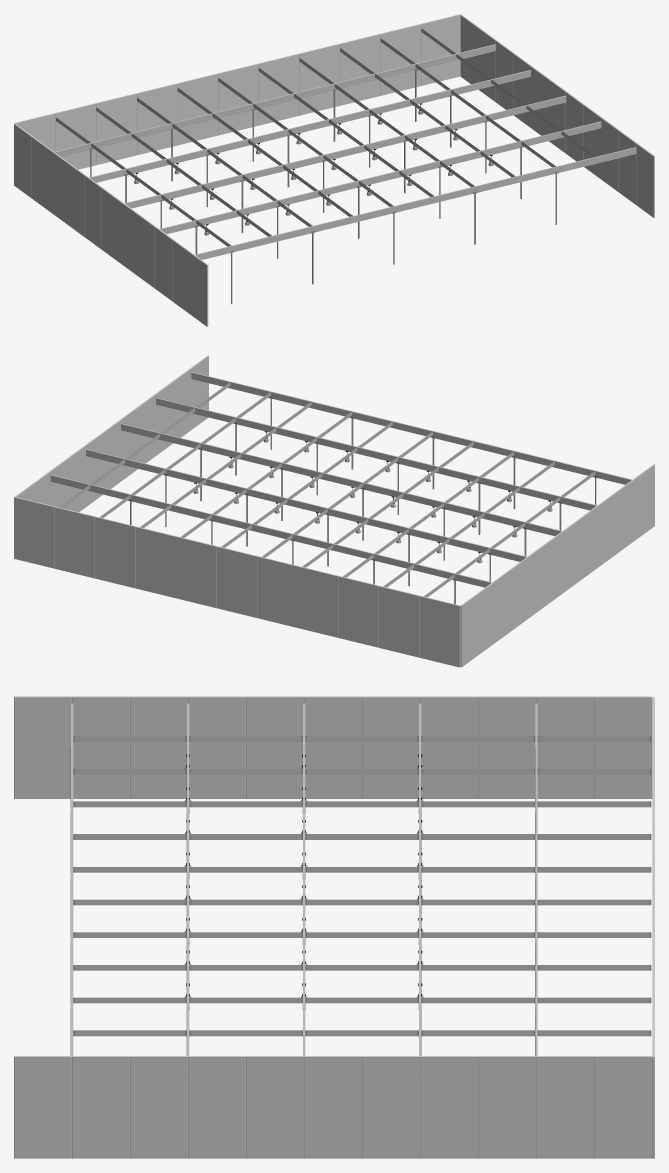
The model's file is BuildingShell.fbx.
The picture shows the model from 3 angles, top to bottom: view 1: azimuth 30°, elevation 25°; view 2: azimuth 150°, elevation 25°; view 3: azimuth 270°, elevation 25°; orthographic projection. The views are drawn at different scales.
Visible parts, largest first — view 1: Glulam3, Glulam1, Glulam2, Glulam02, Glulam01, WallPanel17, WallPanel19, WallPanel13, WallPanel15, WallPanel16, WallPanel14, WallPanel20 (+26 smaller); view 2: Glulam3, Glulam01, Glulam02, Glulam2, Glulam1, WallPanel14, WallPanel11, WallPanel16, WallPanel12, WallPanel15, WallPanel17, WallPanel18 (+25 smaller); view 3: WallPanel22, WallPanel23, WallPanel24, WallPanel25, WallPanel26, WallPanel27, WallPanel28, WallPanel29, WallPanel30, WallPanel31, WallPanel32, WallPanel10 (+65 smaller).
Boxes of the visible parts, x1,y1,x2,y2 form: Glulam3: [195, 147, 636, 259]; Glulam1: [124, 95, 566, 208]; Glulam2: [160, 121, 601, 234]; Glulam02: [89, 70, 530, 182]; Glulam01: [54, 44, 495, 156]; WallPanel17: [258, 53, 299, 125]; WallPanel19: [339, 34, 380, 105]; WallPanel13: [96, 93, 136, 165]; WallPanel15: [177, 73, 217, 145]; WallPanel16: [218, 63, 258, 135]; WallPanel14: [136, 83, 177, 155]; WallPanel20: [380, 24, 420, 95]; Glulam3: [191, 372, 631, 484]; Glulam01: [50, 475, 491, 587]; Glulam02: [86, 449, 526, 561]; Glulam2: [156, 398, 596, 510]; Glulam1: [121, 423, 561, 535]; WallPanel14: [297, 566, 338, 637]; WallPanel11: [419, 595, 460, 667]; WallPanel16: [216, 546, 257, 617]; WallPanel12: [379, 585, 419, 657]; WallPanel15: [257, 556, 297, 627]; WallPanel17: [176, 536, 216, 608]; WallPanel18: [135, 526, 176, 598]; WallPanel22: [594, 1056, 652, 1158]; WallPanel23: [536, 1056, 594, 1158]; WallPanel24: [420, 1056, 478, 1158]; WallPanel25: [478, 1056, 536, 1158]; WallPanel26: [362, 1056, 420, 1158]; WallPanel27: [304, 1056, 362, 1158]; WallPanel28: [246, 1056, 304, 1158]; WallPanel29: [188, 1056, 245, 1158]; WallPanel30: [72, 1056, 129, 1158]; WallPanel31: [130, 1056, 187, 1158]; WallPanel32: [14, 1056, 71, 1158]; WallPanel10: [14, 696, 71, 798].
Bounding box in the file's own units: 67.26 × 8.84 × 50.5.
